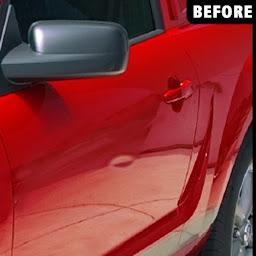dent: (105, 147, 137, 179)
